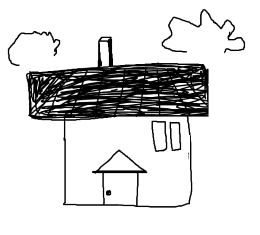chimney: (91, 27, 124, 77)
clouds: (161, 8, 246, 53), (7, 27, 61, 66)
door: (91, 147, 147, 210)
open_window: (148, 120, 170, 153), (168, 120, 184, 152)
shaded_roof: (21, 62, 215, 126)
wall: (61, 113, 196, 211)
